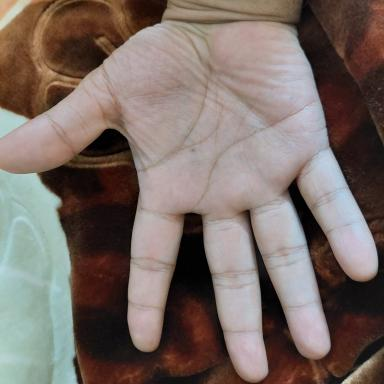normal skin: (2, 20, 378, 383)
